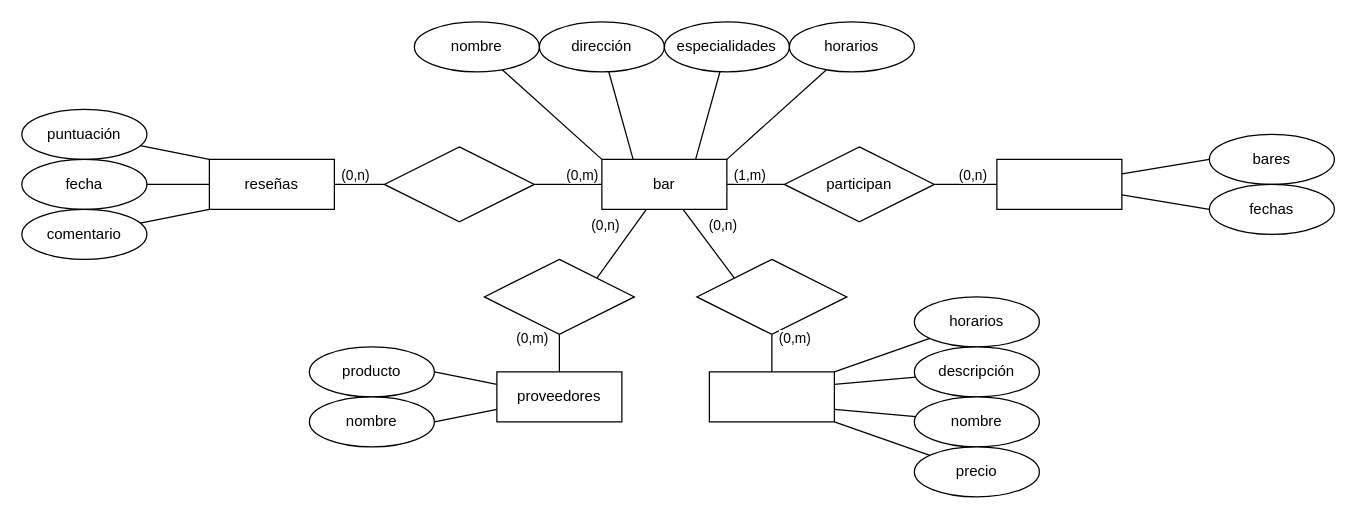
The diagram is 1356 pixels wide and 519 high, and some of its shapes have lost their labels. The shapes that lost their labels are listed below. From the top down, each one's box as (x1, y1, x2, y2) in pixels, then its label:
(383, 146, 534, 222): reciben
(996, 158, 1122, 209): rutas gastronómicas
(483, 258, 634, 334): contratan
(696, 258, 847, 334): ofrecen
(708, 371, 834, 422): tapas
